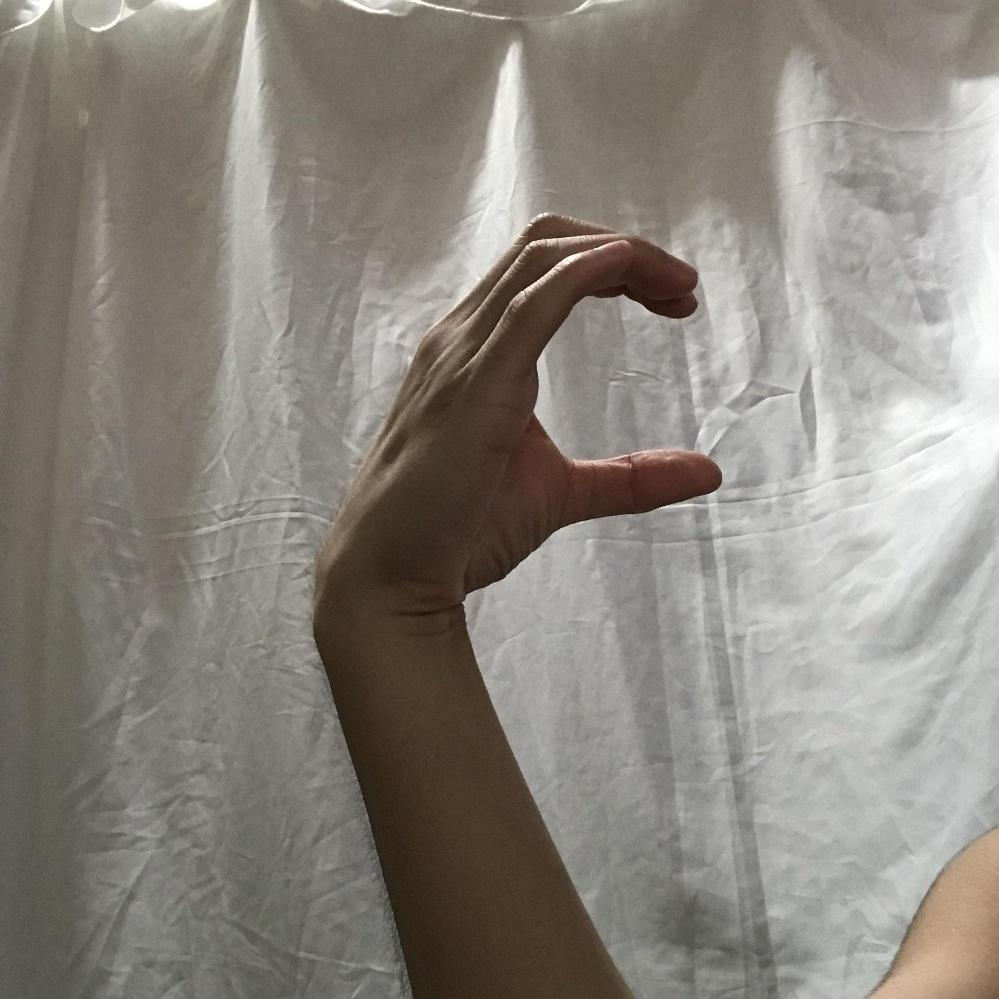c: (323, 208, 720, 592)
